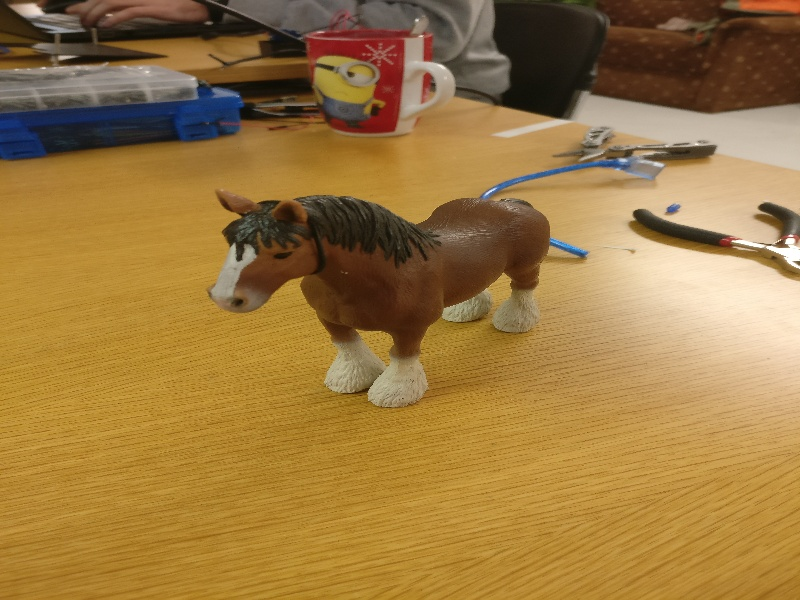toy: (204, 171, 553, 411)
